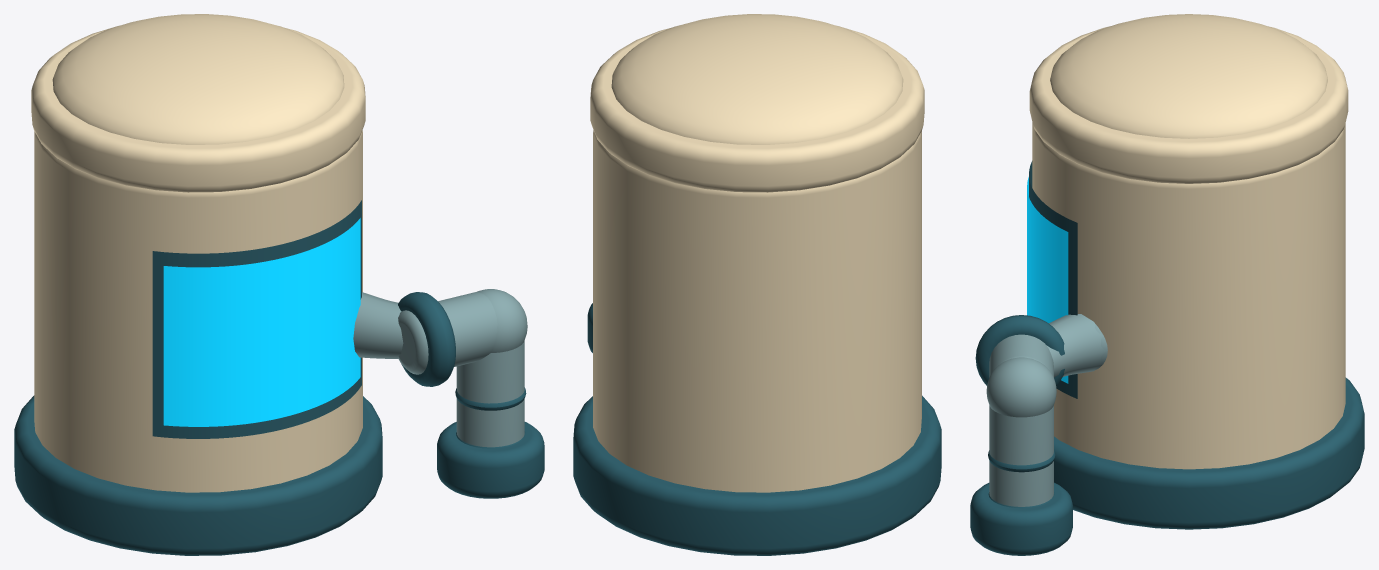
The model's file is refinery.glb.
3 views of the same model, side by side, from view 1: azimuth 30°, elevation 25°; view 2: azimuth 150°, elevation 25°; view 3: azimuth 270°, elevation 25° (orthographic). The views are drawn at different scales.
Visible parts, largest first — view 1: Refinery tank, Window turquoise glass, Rounded refinery crown, Refinery base, Refinery lid, Window dark border, Pipe foot, Refinery pipe, Pipe top connector, Pipe collar, Tank connected outlet, Pipe elbow; view 2: Refinery tank, Rounded refinery crown, Refinery base, Refinery lid; view 3: Refinery tank, Rounded refinery crown, Refinery base, Refinery lid, Refinery pipe, Pipe foot, Window turquoise glass, Pipe elbow, Tank connected outlet, Pipe collar, Window dark border, Pipe top connector (+1 smaller).
Boxes of the visible parts, x1,y1,x2,y2 form: Refinery tank: (34,130,362,492); Window turquoise glass: (163,218,360,426); Rounded refinery crown: (52,14,344,144); Refinery base: (14,395,382,555); Refinery lid: (31,26,365,192); Window dark border: (152,200,361,438); Pipe foot: (437,422,544,498); Refinery pipe: (456,340,524,447); Pipe top connector: (398,292,497,374); Pipe collar: (398,292,455,386); Tank connected outlet: (353,292,403,358); Pipe elbow: (477,289,527,352); Refinery tank: (593,130,921,492); Rounded refinery crown: (611,14,903,144); Refinery base: (573,395,941,555); Refinery lid: (590,26,924,192); Refinery tank: (1032,123,1345,469); Rounded refinery crown: (1050,14,1327,138); Refinery base: (1054,377,1364,529); Refinery lid: (1029,26,1348,183); Refinery pipe: (989,405,1053,506); Pipe foot: (970,482,1072,555); Window turquoise glass: (1027,177,1068,383); Pipe elbow: (986,357,1056,417); Tank connected outlet: (1047,314,1107,377); Pipe collar: (975,315,1064,385); Window dark border: (1029,161,1077,398); Pipe top connector: (989,334,1053,377).
Size of the model in its own units: 1.67 by 1.68 by 1.46.
